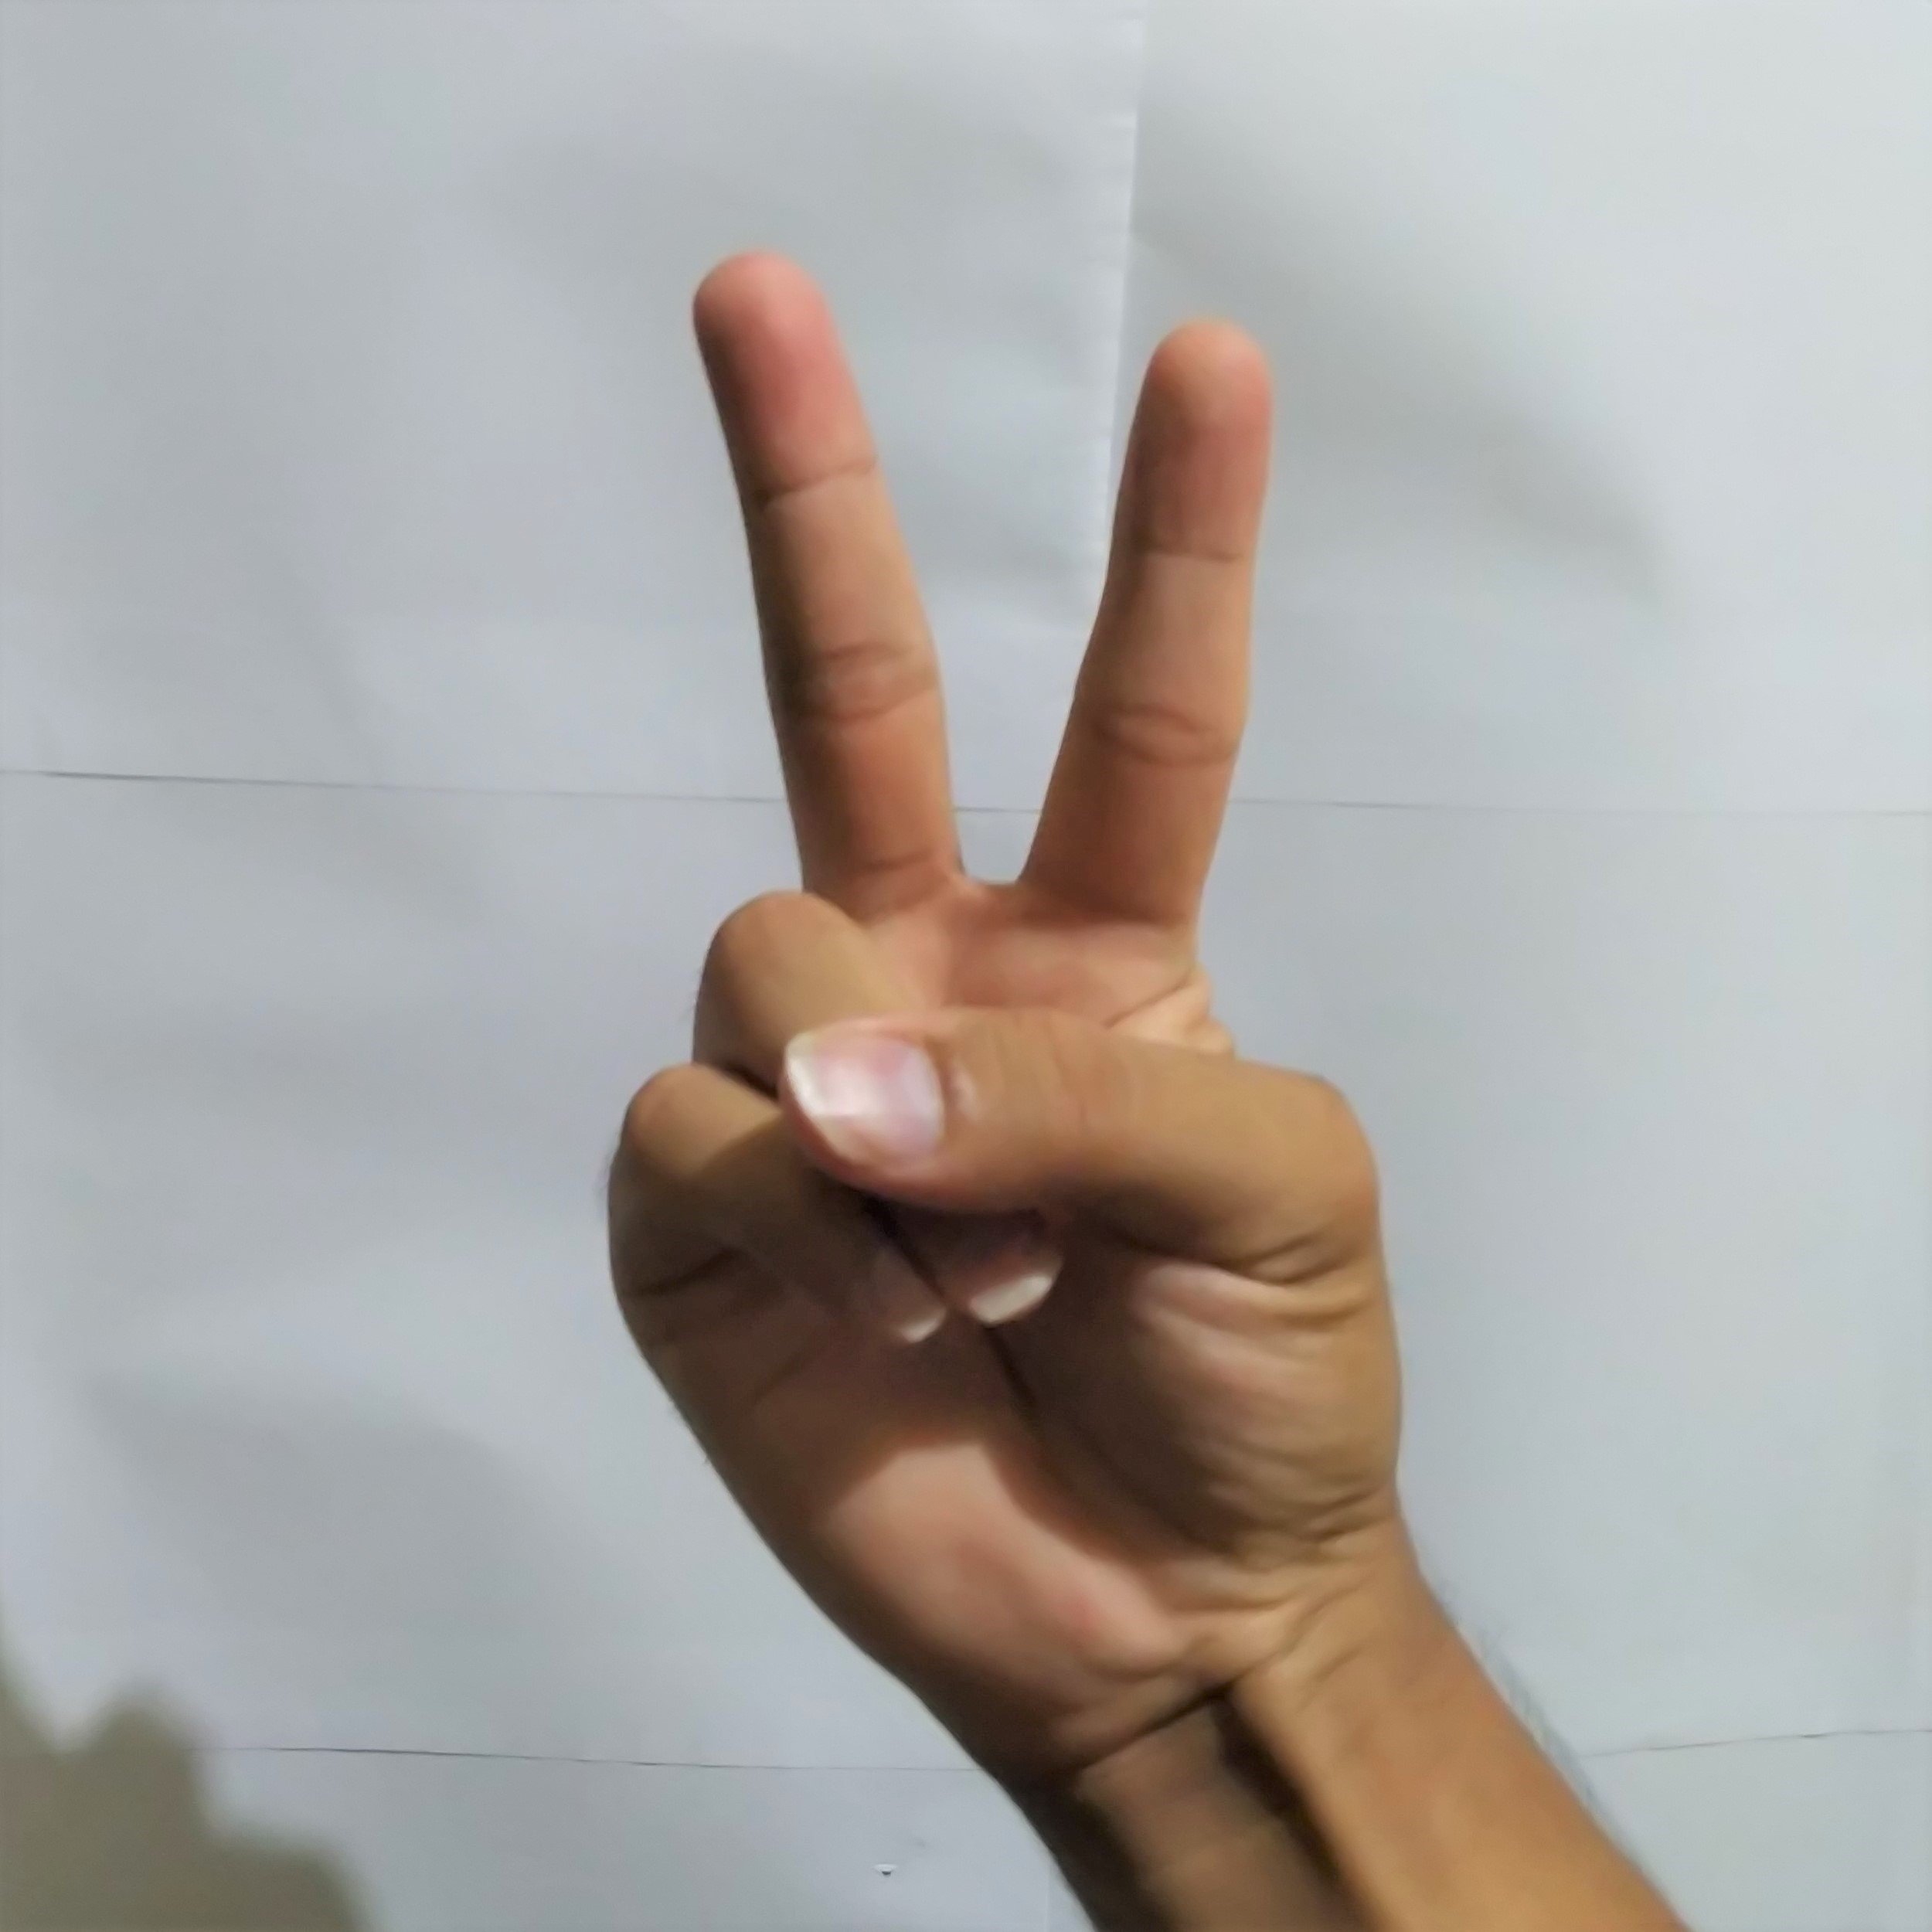V: (563, 212, 1486, 1688)
